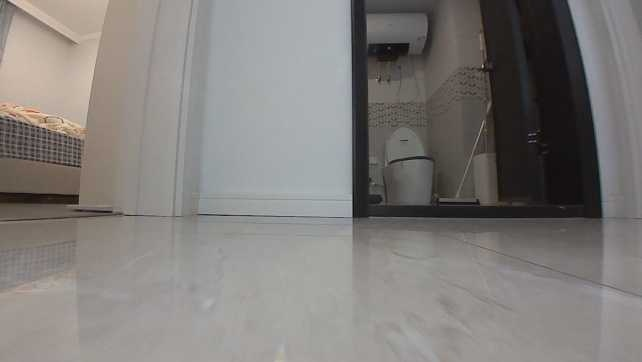bed1: (0, 100, 81, 200)
door_anno: (472, 0, 589, 206)
toilet: (378, 124, 435, 206)
